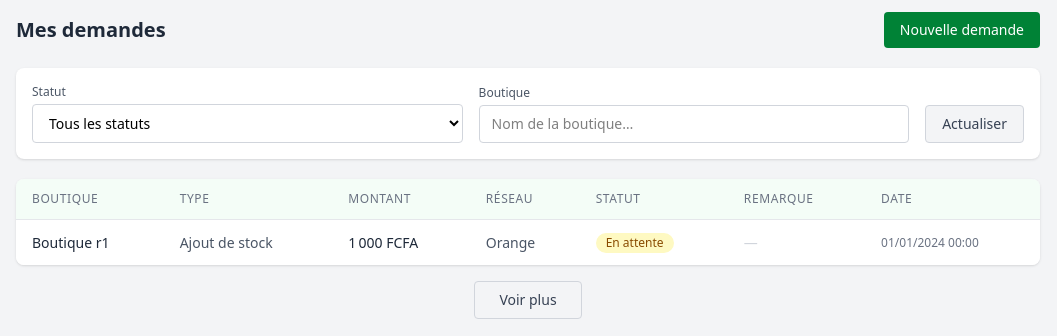
it: TC-080-CU — curseurs et hasMore › [CU-02] changement de filtre statut → re-souscription avec le filtre et extras vidés
Click the button with test id "btn-load-more": [528, 300] box [474,281,582,319]
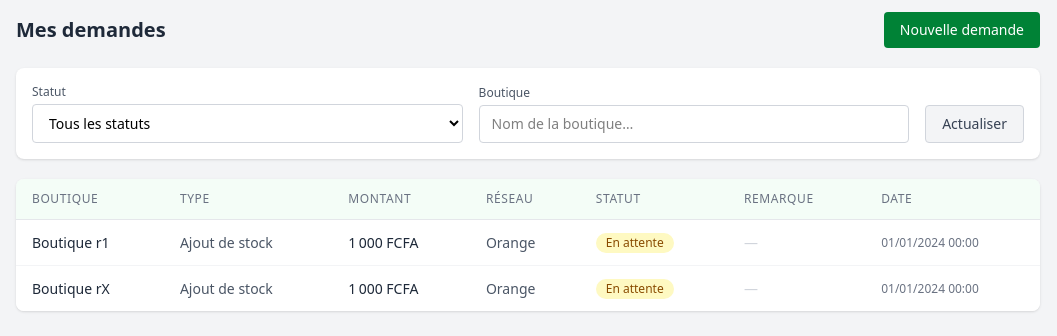
Now the row with test id "request-row-rX" is shown, box [16,266,1040,311]
Note: Changement de filtre → nouvelle souscription (2e appel) avec statusFilter
Select "En attente" in the dropdown with test id "filter-status": [247, 124] box [32,104,463,143]
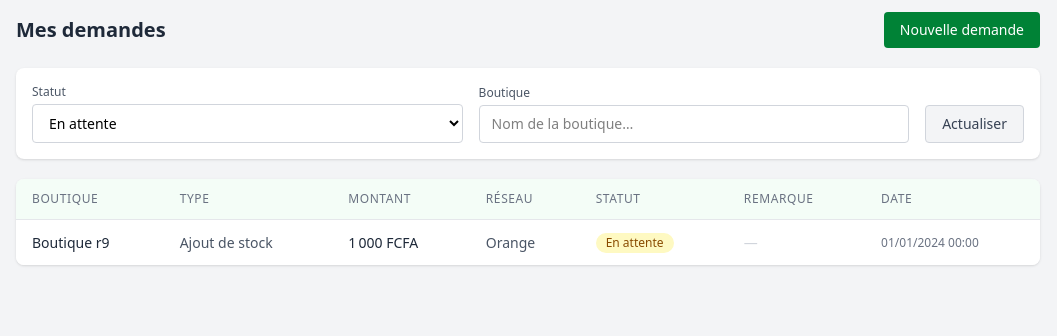
Now the row with test id "request-row-r9" is shown, box [16,220,1040,265]
Now the row with test id "request-row-rX" is gone
